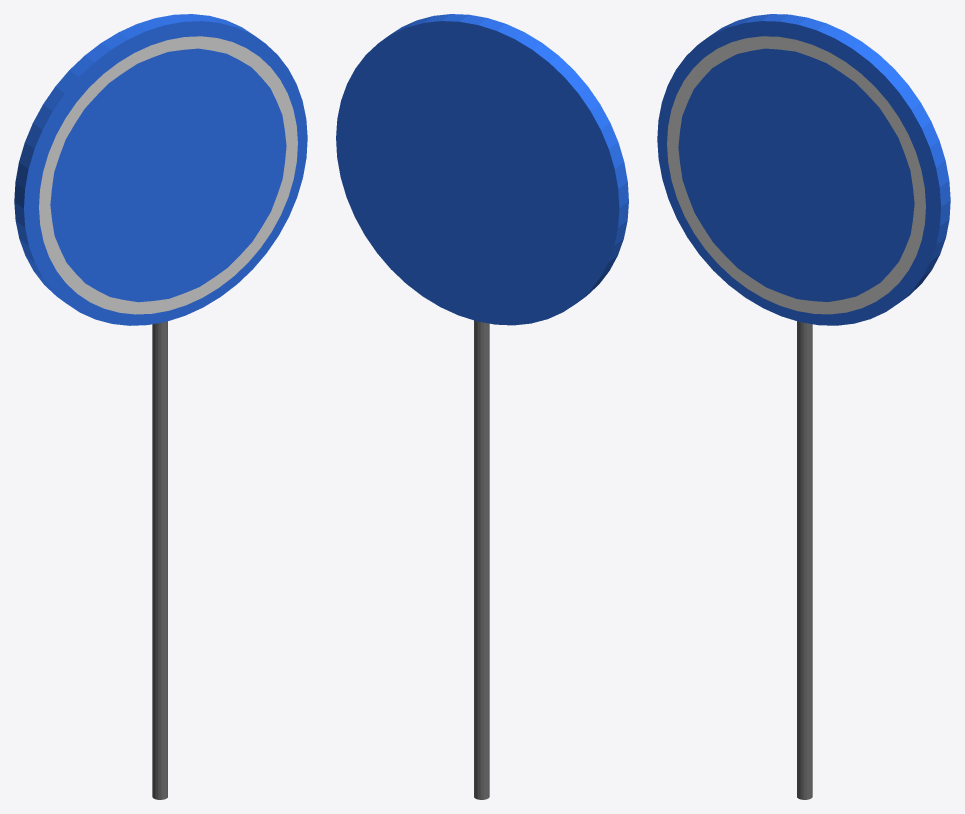
File: signs circle blue white.fbx
3 renders of one model, left to right at view 1: azimuth 30°, elevation 25°; view 2: azimuth 150°, elevation 25°; view 3: azimuth 330°, elevation 25°, orthographic.
Visible parts, largest first — view 1: Cube.006; view 2: Cube.006; view 3: Cube.006.
Part boxes in pixels (bbox=[...]): Cube.006: bbox=[14, 14, 307, 799]; Cube.006: bbox=[336, 14, 628, 799]; Cube.006: bbox=[657, 14, 950, 799].
Bounding box in the file's own units: 172 × 12.93 × 450.
